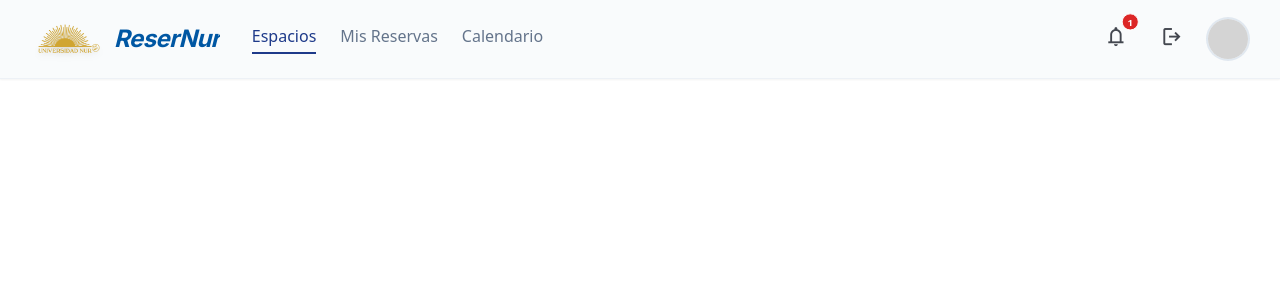
Test: TopNavBar Component › debería traducir el mensaje "Your booking request has been created and is pending review"
Click the button titled "Notificaciones": (1116, 39) [1097,17,1135,61]
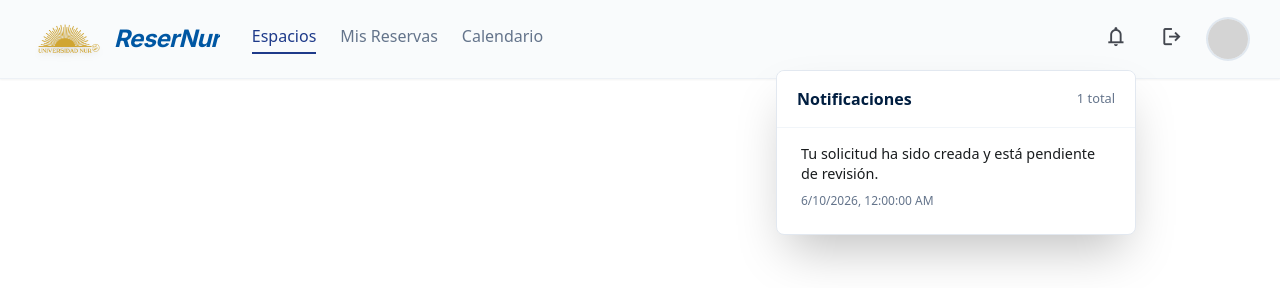
Now the text "Tu solicitud ha sido creada y está pendiente de revisión." is shown, box [801,144,1115,184]
